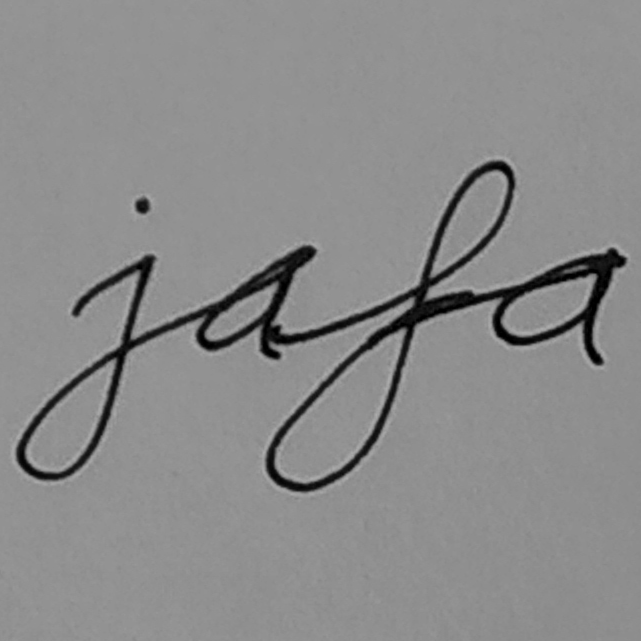a: (489, 244, 630, 371), (190, 241, 320, 363)
f: (261, 156, 519, 497)
j: (12, 194, 160, 486)
